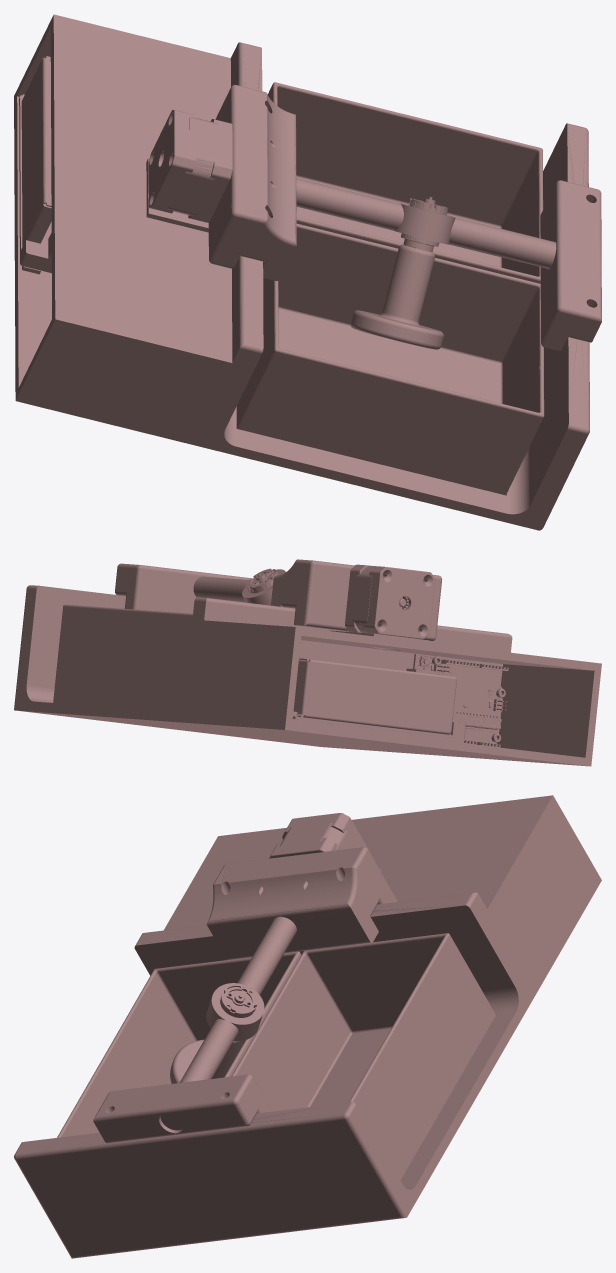
The model's file is nanofab_washer_opt.glb.
3 renders of one model, top to bottom at view 1: azimuth 30°, elevation 25°; view 2: azimuth 150°, elevation 25°; view 3: azimuth 270°, elevation 25°, orthographic. The views are drawn at different scales.
Parts seen in each view (by area): view 1: nanofab_washer; view 2: nanofab_washer; view 3: nanofab_washer.
Part boxes in pixels (x1,y1,x2,y2): nanofab_washer: [14, 14, 601, 530]; nanofab_washer: [14, 559, 601, 766]; nanofab_washer: [14, 795, 601, 1258].
Bounding box in the file's own units: 19.19 × 11.44 × 17.
